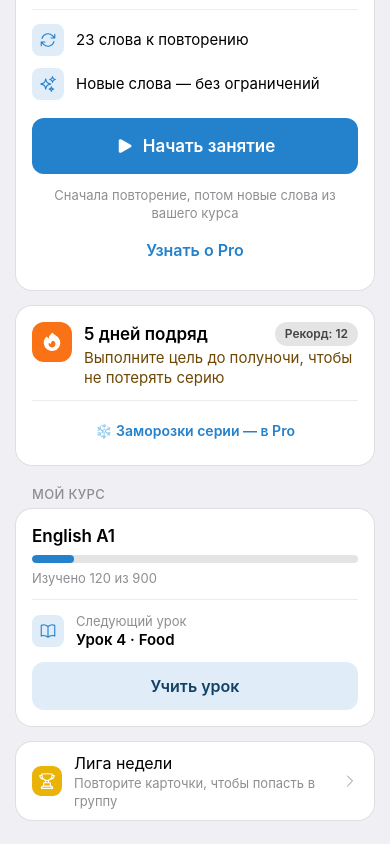
Test: TodayView › session card › puts a failed open under the button and scrolls it into view, wherever the learner pressed
(page scrolled)
Click the button with test id "next-lesson-btn".
click(195, 686)  # box x1=32 y1=662 x2=358 y2=710
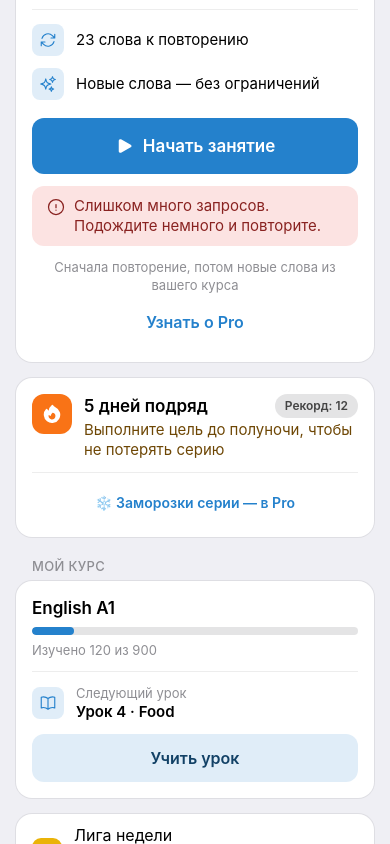
Result: the message with test id "open-error" reads "Слишком много запросов. Подождите немного и повторите." at x1=74 y1=196 x2=321 y2=235
Result: the 4th icon is shown at x1=46 y1=197 x2=66 y2=217
